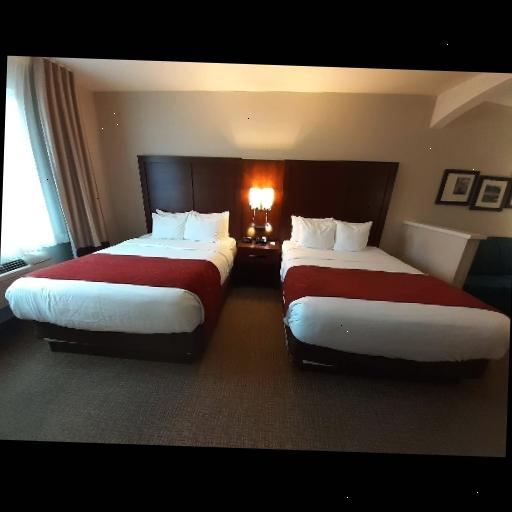clean_bed: (282, 158, 509, 379), (14, 156, 245, 366)
organised_pillow: (291, 212, 376, 254), (150, 205, 230, 242)
